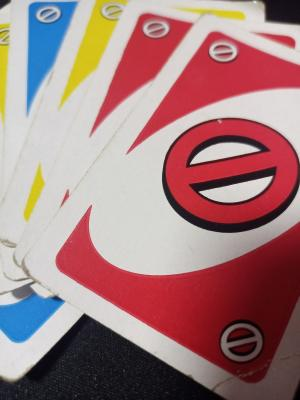skip: (159, 111, 300, 243), (212, 314, 269, 372), (201, 35, 242, 70), (30, 1, 69, 30), (138, 14, 172, 46), (0, 13, 20, 52), (98, 0, 129, 23)
